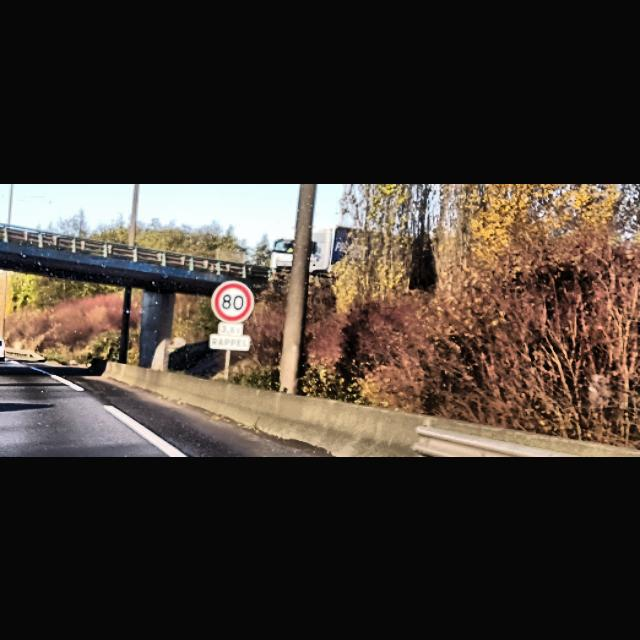speed_80: (212, 281, 254, 321)
